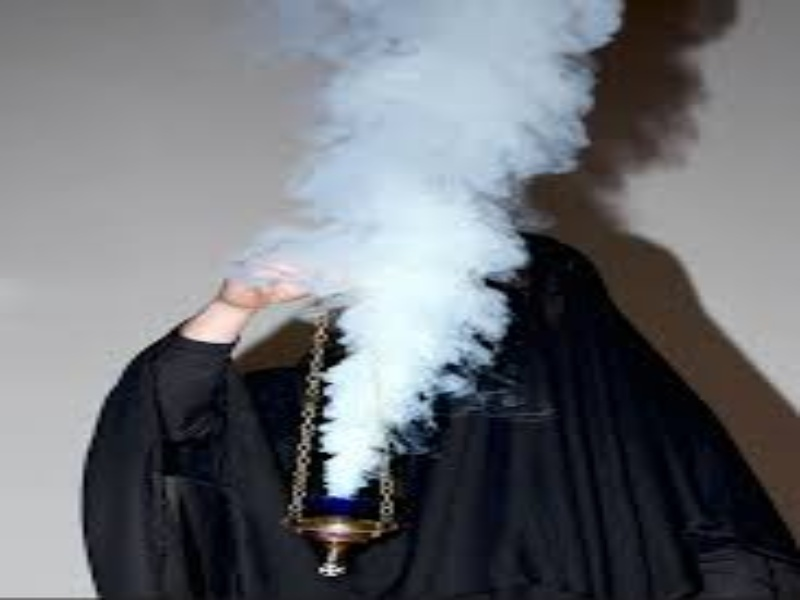smoke: (322, 1, 502, 386)
